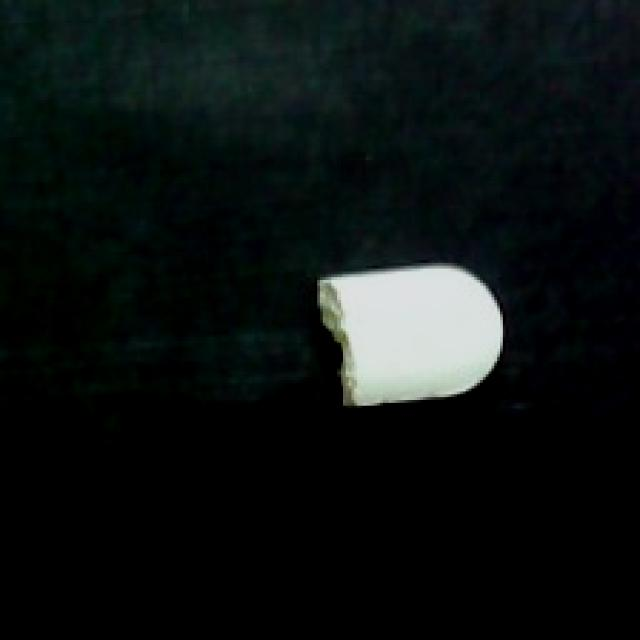defected: (310, 258, 508, 411)
